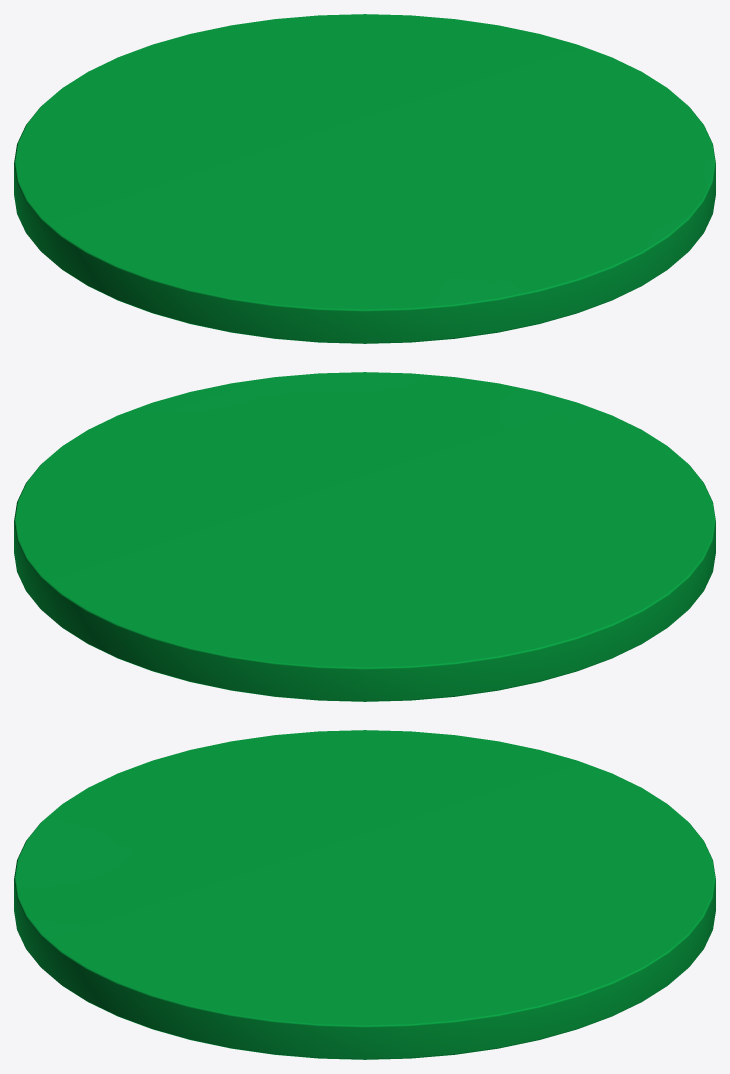
The model's file is Public_14_Base_1.glb.
The picture shows the model from 3 angles, top to bottom: view 1: azimuth 30°, elevation 25°; view 2: azimuth 150°, elevation 25°; view 3: azimuth 270°, elevation 25°; orthographic projection.
Parts seen in each view (by area): view 1: Public_14_Base_1; view 2: Public_14_Base_1; view 3: Public_14_Base_1.
Part boxes in pixels (x1,y1,x2,y2): Public_14_Base_1: [14, 14, 715, 343]; Public_14_Base_1: [14, 372, 715, 701]; Public_14_Base_1: [14, 730, 715, 1059].
Bounding box in the file's own units: 22.27 × 1.21 × 22.27.
Materials: 1 (1 with a texture image).
